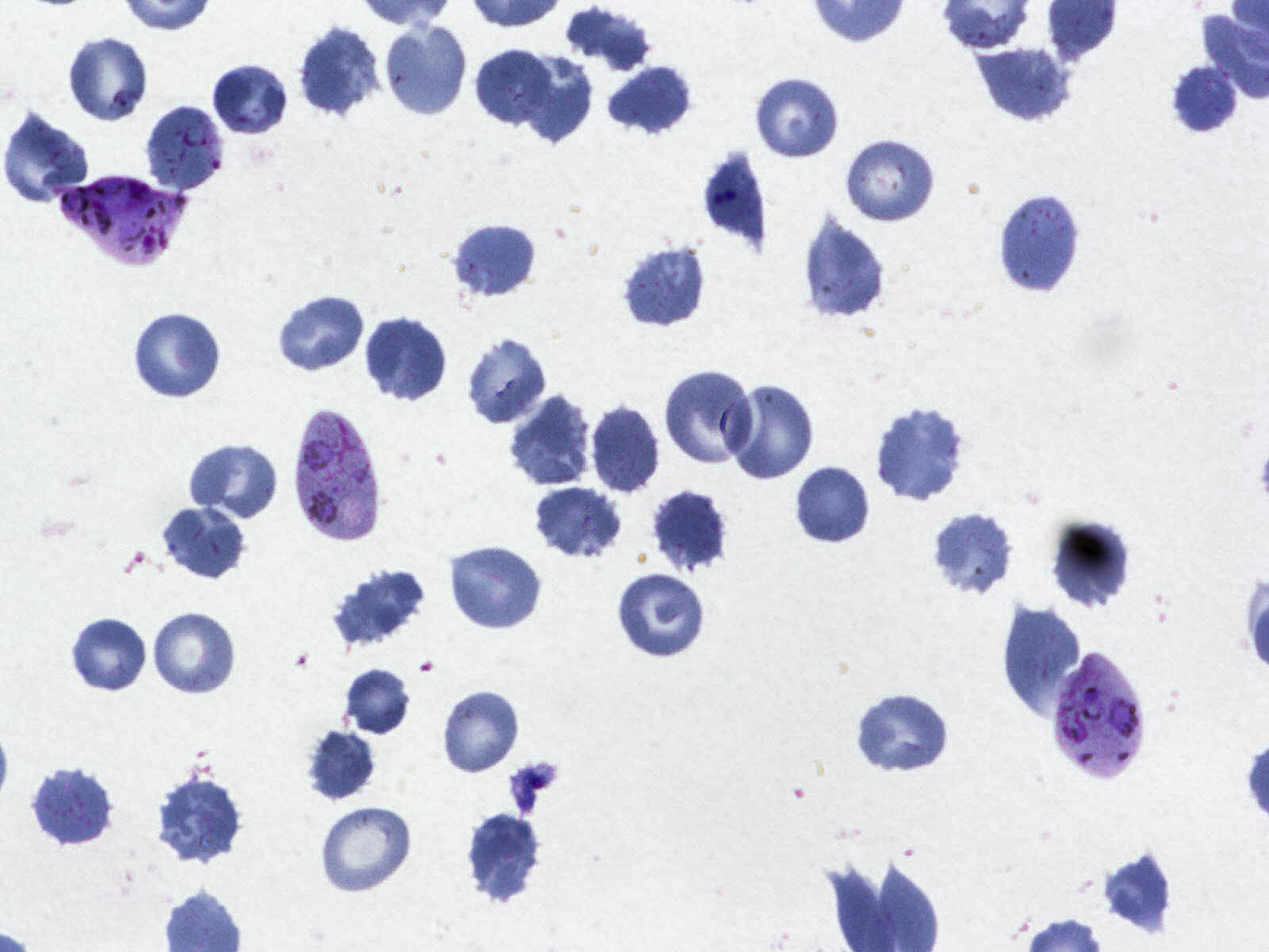Infected: (1048, 653, 1143, 776), (58, 176, 186, 266), (297, 412, 376, 539)
Uninfected: (383, 18, 469, 121), (1002, 604, 1084, 712), (127, 304, 220, 399), (999, 190, 1080, 298), (662, 368, 754, 463), (320, 804, 413, 896), (876, 405, 964, 502), (447, 543, 542, 632), (618, 570, 707, 662), (845, 137, 938, 225), (803, 221, 884, 322), (857, 693, 953, 778), (327, 572, 435, 647), (725, 386, 812, 479), (507, 394, 592, 489), (3, 109, 89, 202), (971, 43, 1073, 121), (151, 608, 237, 700), (463, 335, 548, 428), (144, 102, 226, 198), (189, 440, 280, 526), (297, 25, 382, 116), (66, 35, 149, 127), (1051, 517, 1131, 612), (755, 74, 842, 160), (365, 315, 449, 404), (696, 147, 770, 247), (156, 777, 243, 862), (933, 509, 1014, 599), (465, 809, 542, 903), (278, 292, 366, 374), (440, 688, 521, 776), (588, 403, 663, 497), (532, 486, 624, 562), (623, 244, 706, 328), (164, 499, 251, 579), (519, 53, 590, 150), (450, 223, 539, 299), (31, 766, 113, 847), (650, 487, 728, 572), (608, 62, 694, 136), (69, 616, 148, 693), (1100, 850, 1175, 931), (212, 63, 289, 140), (796, 465, 870, 545), (473, 49, 553, 123), (565, 5, 651, 71), (307, 726, 378, 803), (343, 666, 414, 741), (1175, 60, 1240, 135)
